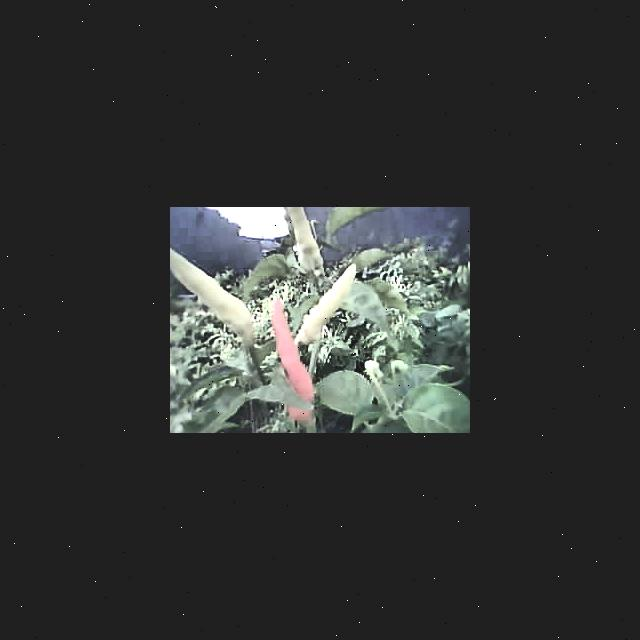Cabai: (170, 248, 259, 339), (274, 306, 304, 405)
